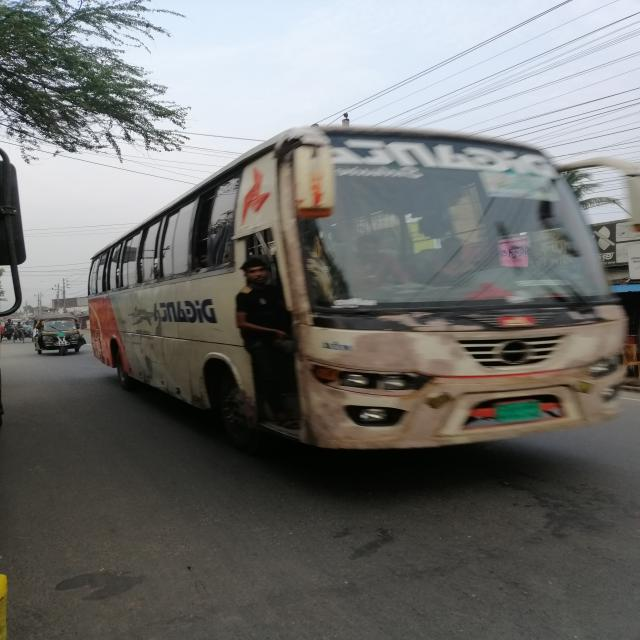Bus: (68, 108, 640, 462)
CNG: (14, 300, 106, 375)
